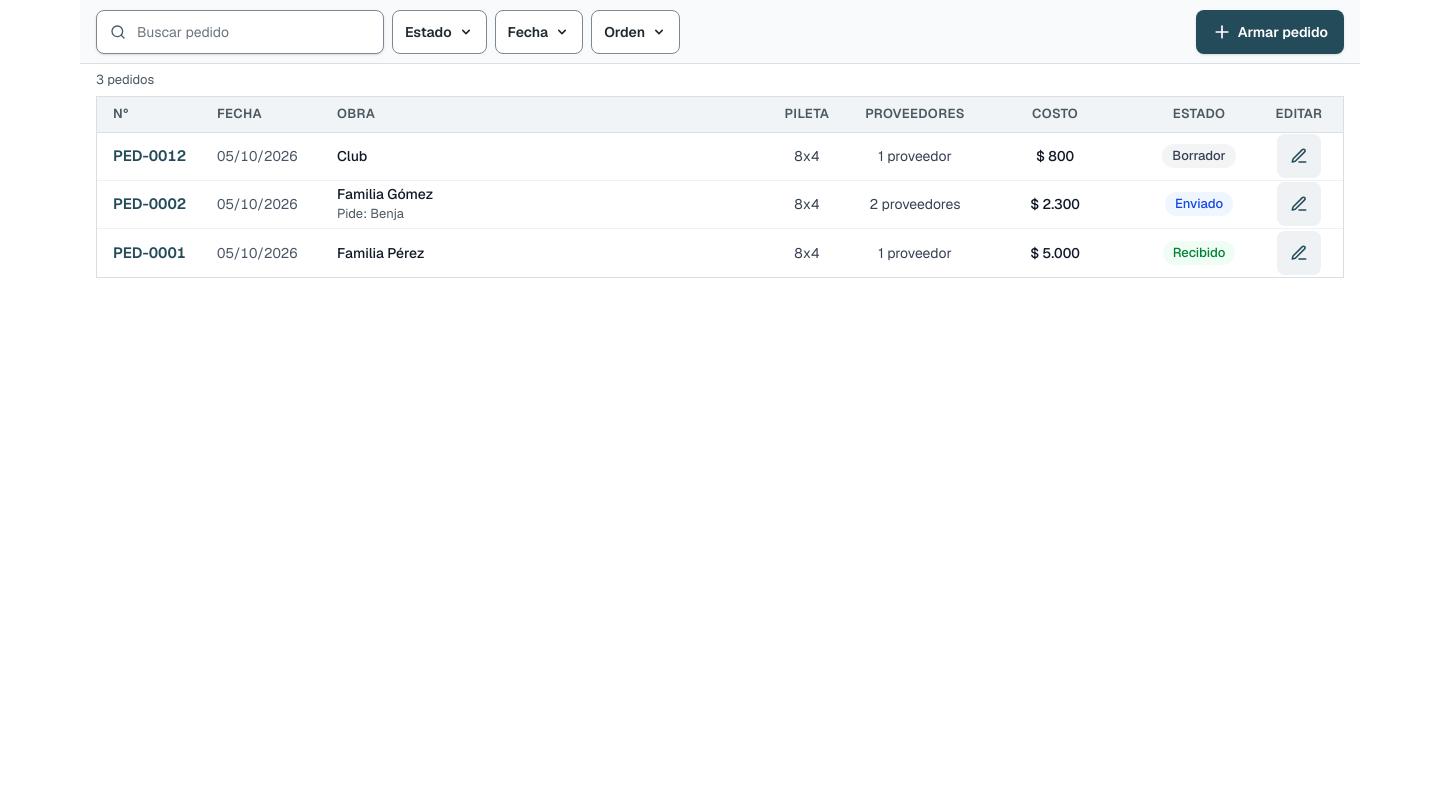
Scenario: Pedidos › el filtro de estado muestra su contador y filtra
Expected: the text "3 pedidos" is shown, [96,70,154,90]
Click the button with aria-label "Filtrar por estado" at point(439, 32), box [392,10,487,54]
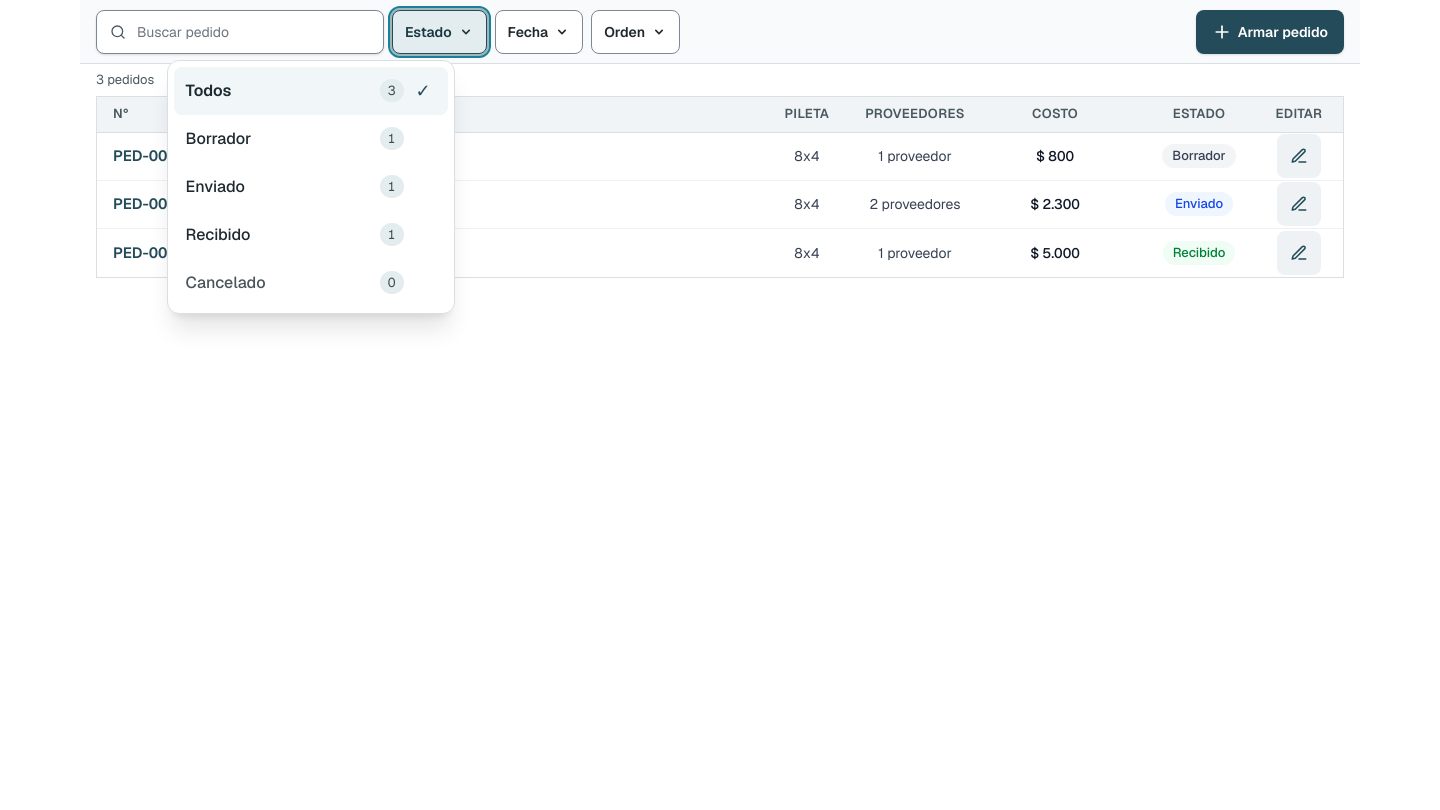
Expected: the radio button labelled "Todos 3 ✓" is shown, [174,66,448,114]
Expected: the radio button labelled "Enviado 1" is shown
Click the radio button labelled "Enviado 1" at point(215, 186), box [174,162,448,210]
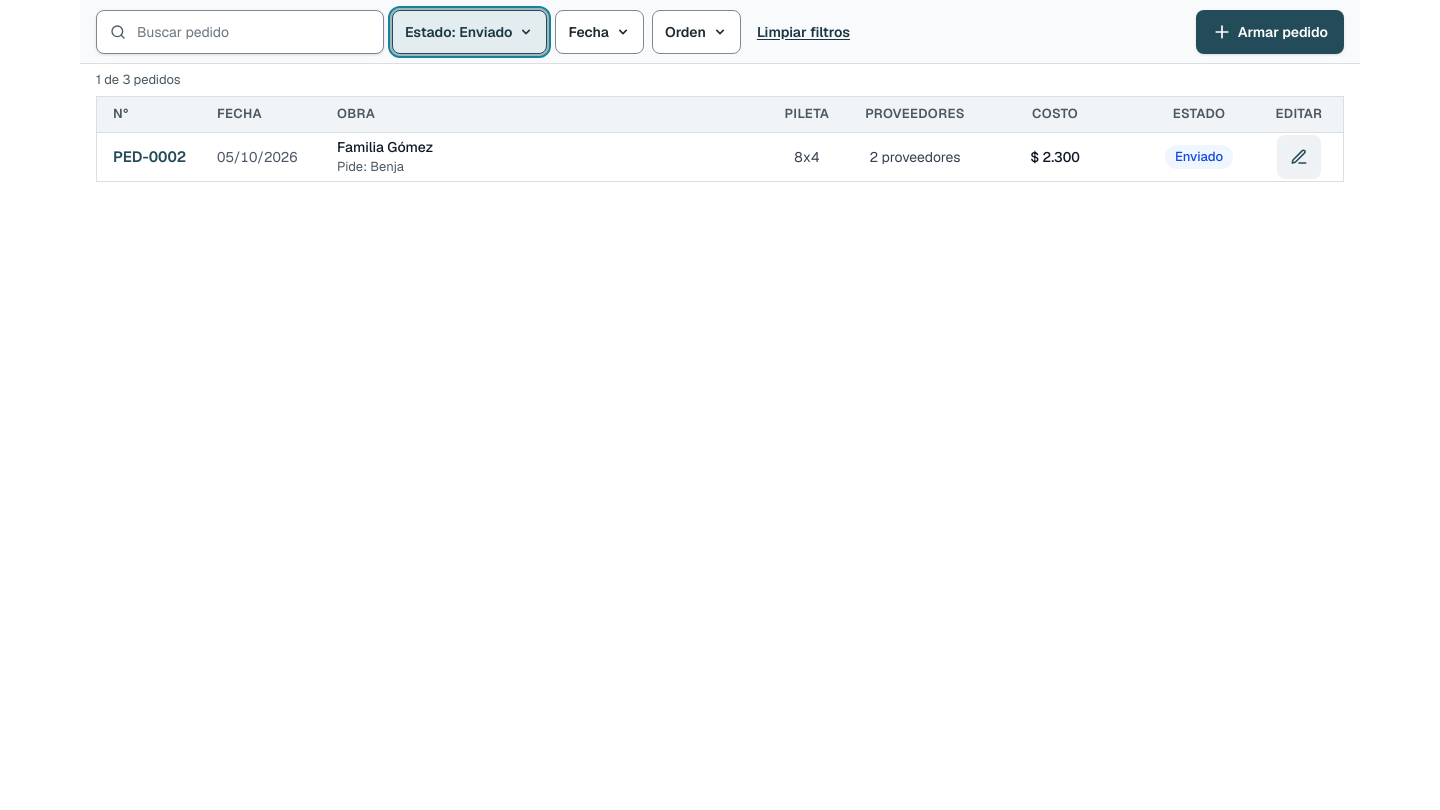
Expected: the text "Familia Gómez" is shown, [337,138,433,156]
Expected: the text "Familia Pérez" is gone
Expected: the text "1 de 3 pedidos" is shown, [96,70,181,90]
